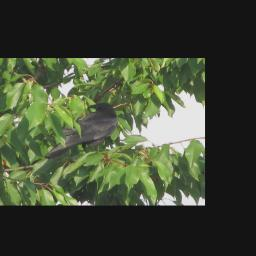Crow: (43, 102, 119, 159)
